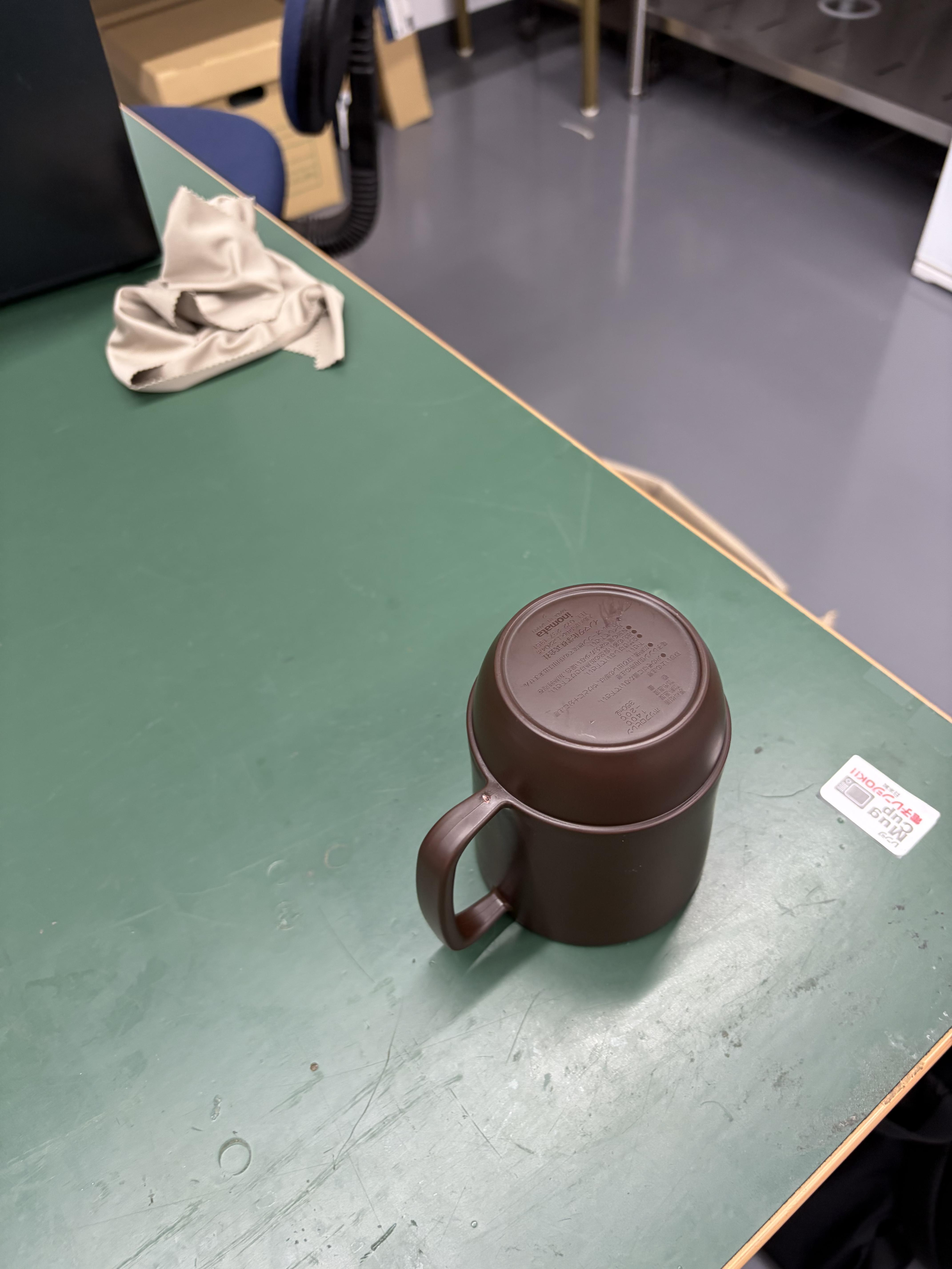mug-real100-3d100: (417, 585, 731, 949)
